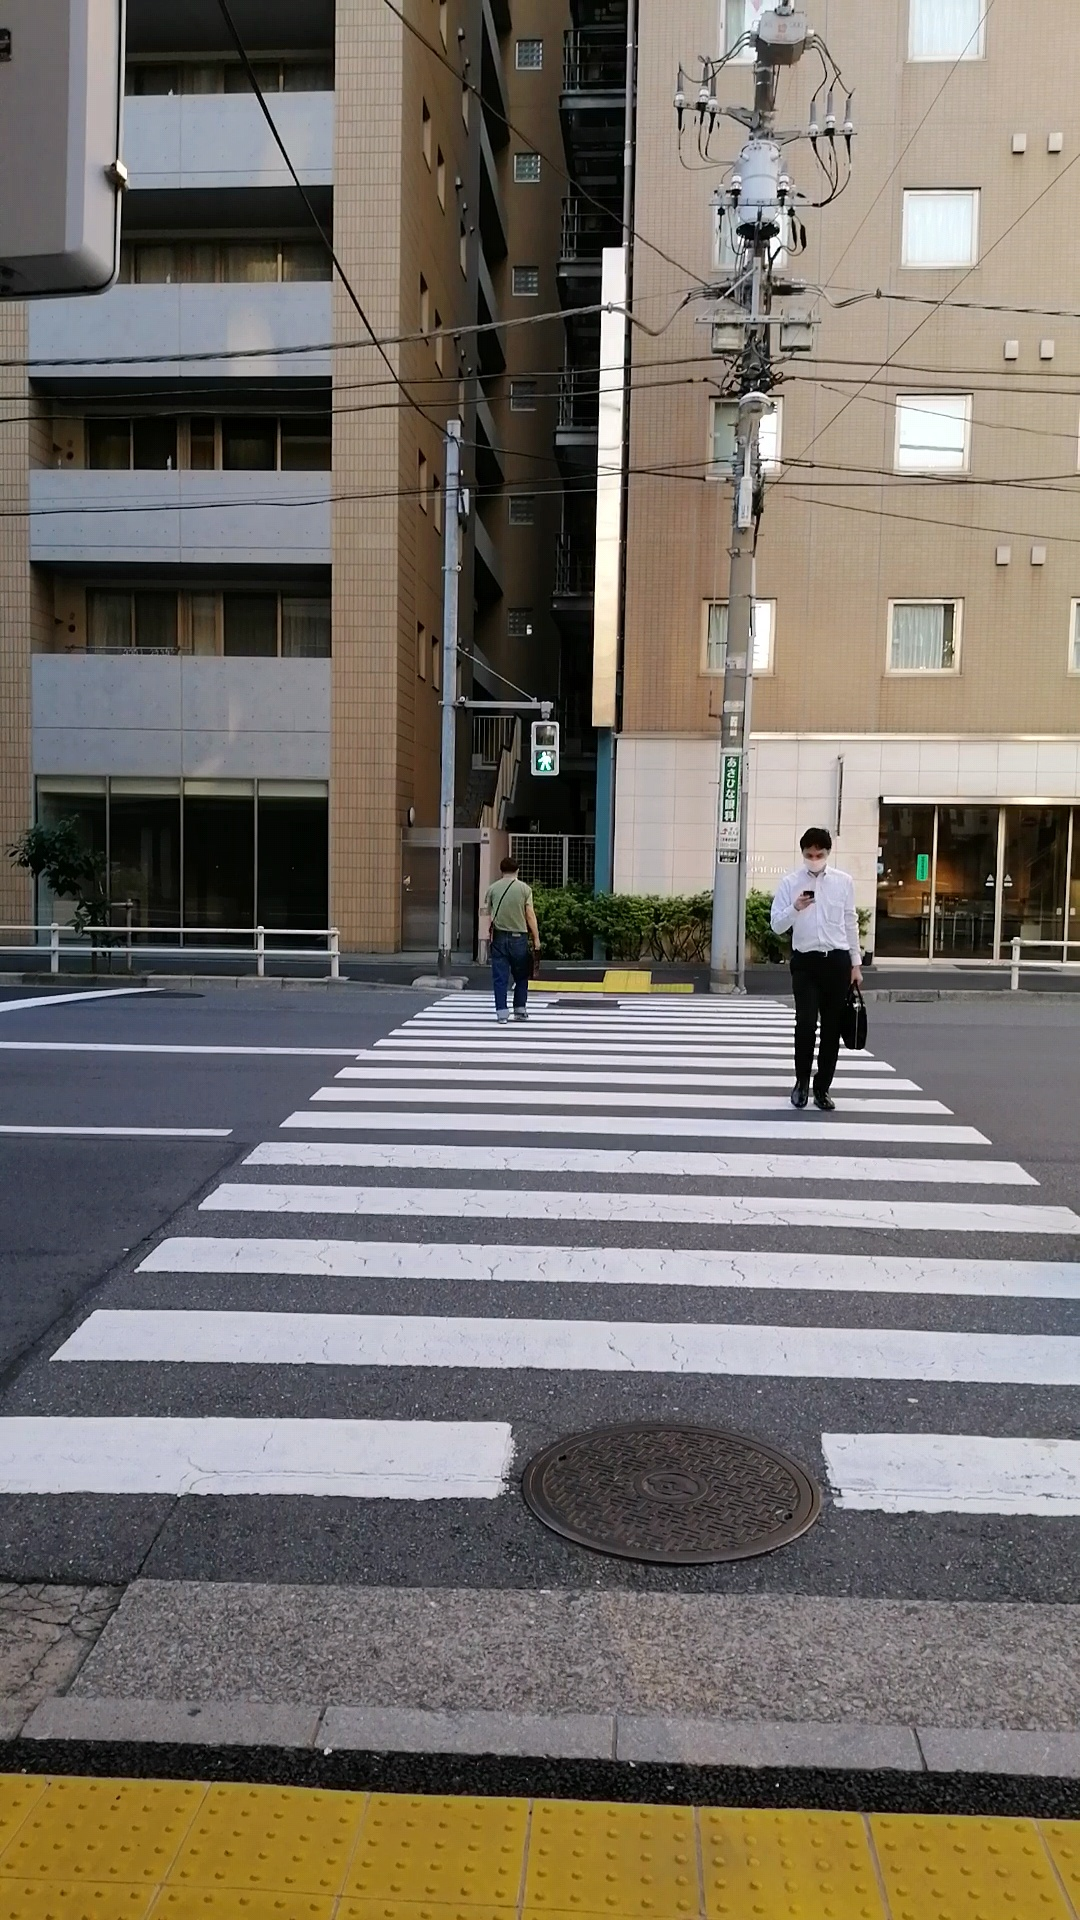green: (530, 720, 559, 777)
